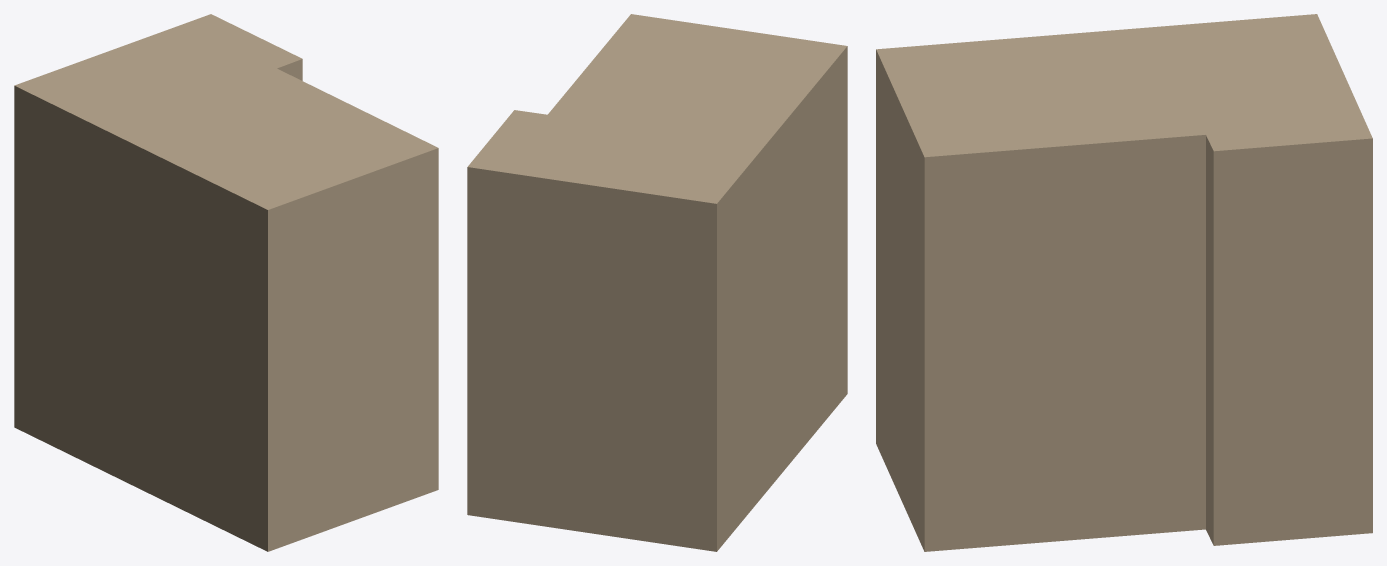
Rendered from bld_99020448.dae.
3 views of the same model, side by side, from view 1: azimuth 30°, elevation 25°; view 2: azimuth 150°, elevation 25°; view 3: azimuth 270°, elevation 25° (orthographic). The views are drawn at different scales.
Visible parts, largest first — view 1: bld_99020448; view 2: bld_99020448; view 3: bld_99020448.
Part boxes in pixels (<box>): bld_99020448: <box>14,14,438,551</box>; bld_99020448: <box>467,14,847,551</box>; bld_99020448: <box>876,14,1372,551</box>.
Size of the model in its own units: 6.23 by 9.12 by 8.
